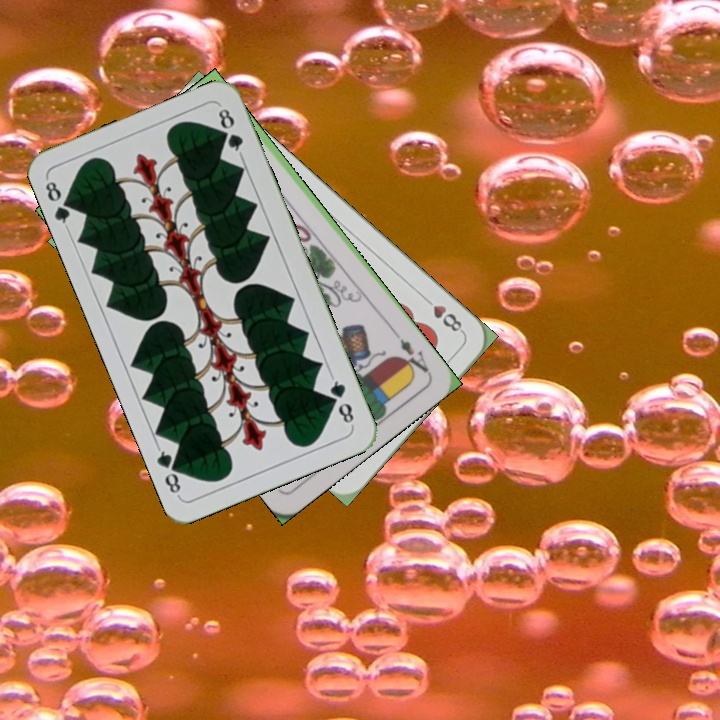EA: (390, 327, 433, 379)
G8: (41, 175, 78, 232), (325, 372, 357, 429)
H8: (418, 292, 467, 336)
